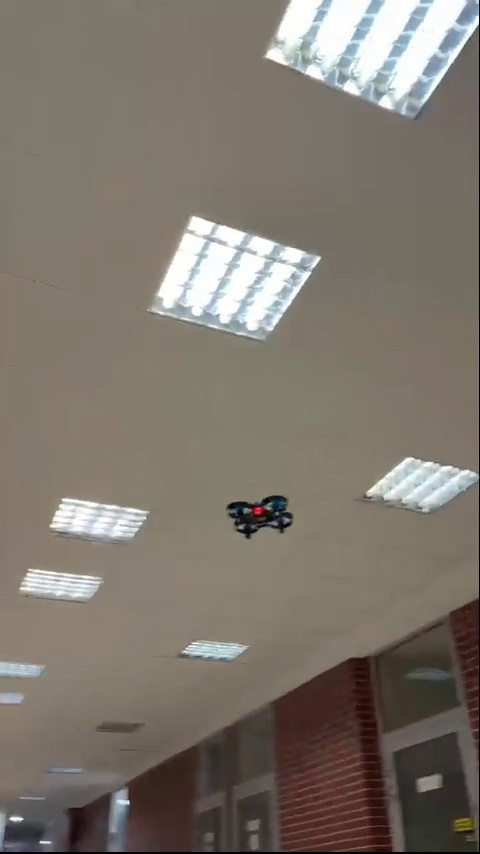drone: (227, 491, 298, 541)
